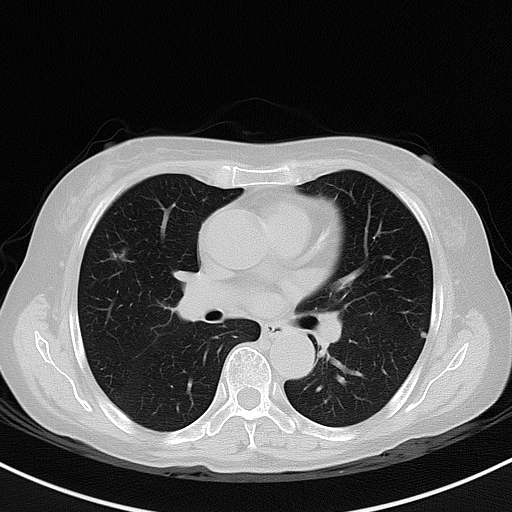nodule: (106, 248, 132, 262)
